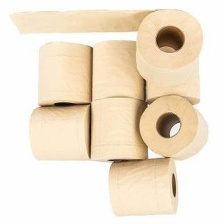tissue: (5, 4, 209, 86), (135, 90, 214, 165), (102, 153, 184, 220), (86, 93, 151, 165), (24, 102, 96, 166), (88, 36, 150, 109), (33, 38, 95, 109), (141, 51, 205, 109)
